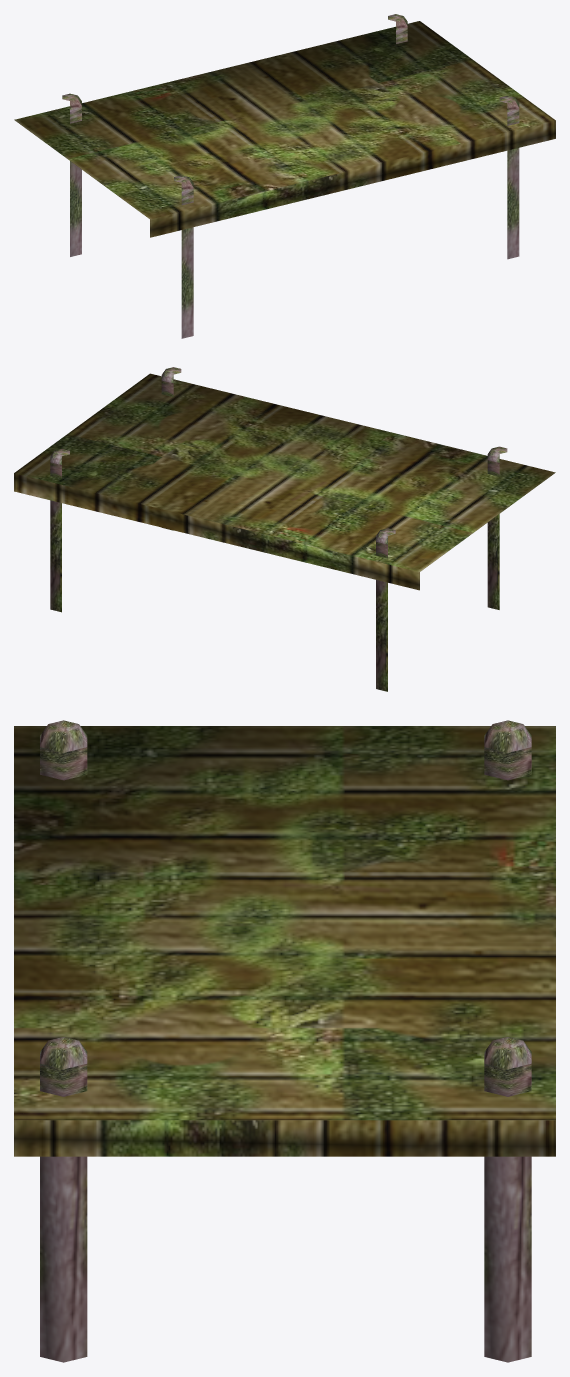
File: dock_swamp.glb
3 renders of one model, top to bottom at view 1: azimuth 30°, elevation 25°; view 2: azimuth 150°, elevation 25°; view 3: azimuth 270°, elevation 25°, orthographic. The views are drawn at different scales.
Parts seen in each view (by area): view 1: dock_swamp; view 2: dock_swamp; view 3: dock_swamp.
Part boxes in pixels (bbox=[...]): dock_swamp: bbox=[14, 14, 555, 338]; dock_swamp: bbox=[14, 367, 555, 691]; dock_swamp: bbox=[14, 720, 555, 1362].
Bounding box in the file's own units: 4.48 × 1.63 × 2.6.
Materials: 1 (1 with a texture image).
